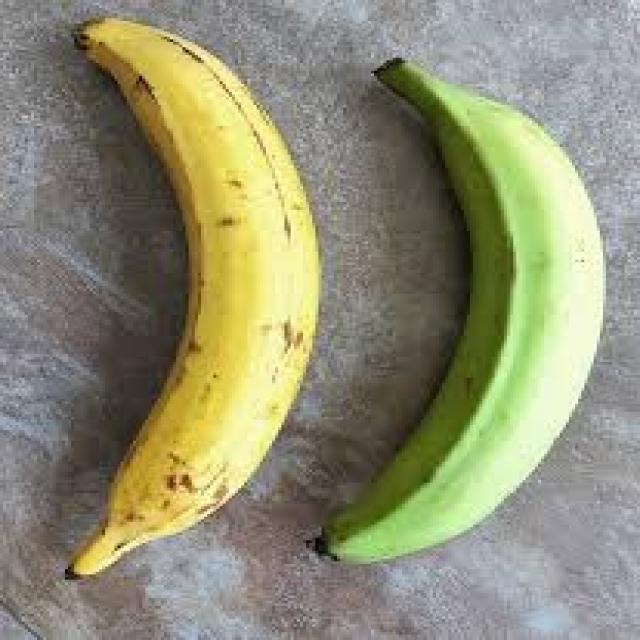non_orange: (55, 12, 321, 583), (324, 58, 614, 569)
